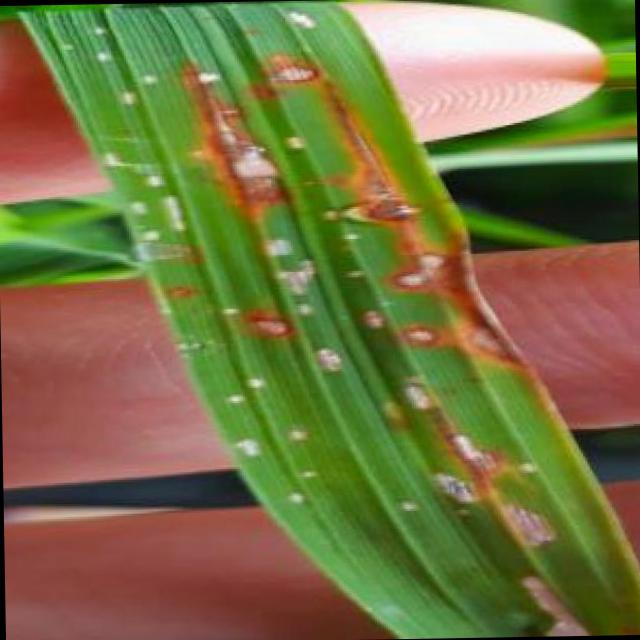Rice_Blast: (325, 122, 419, 239), (192, 100, 282, 214), (208, 281, 302, 384), (470, 482, 580, 556), (116, 257, 224, 328), (424, 416, 536, 484), (440, 299, 534, 380), (368, 236, 473, 306), (502, 560, 594, 635), (403, 454, 488, 528), (380, 363, 445, 415), (388, 307, 438, 366)
